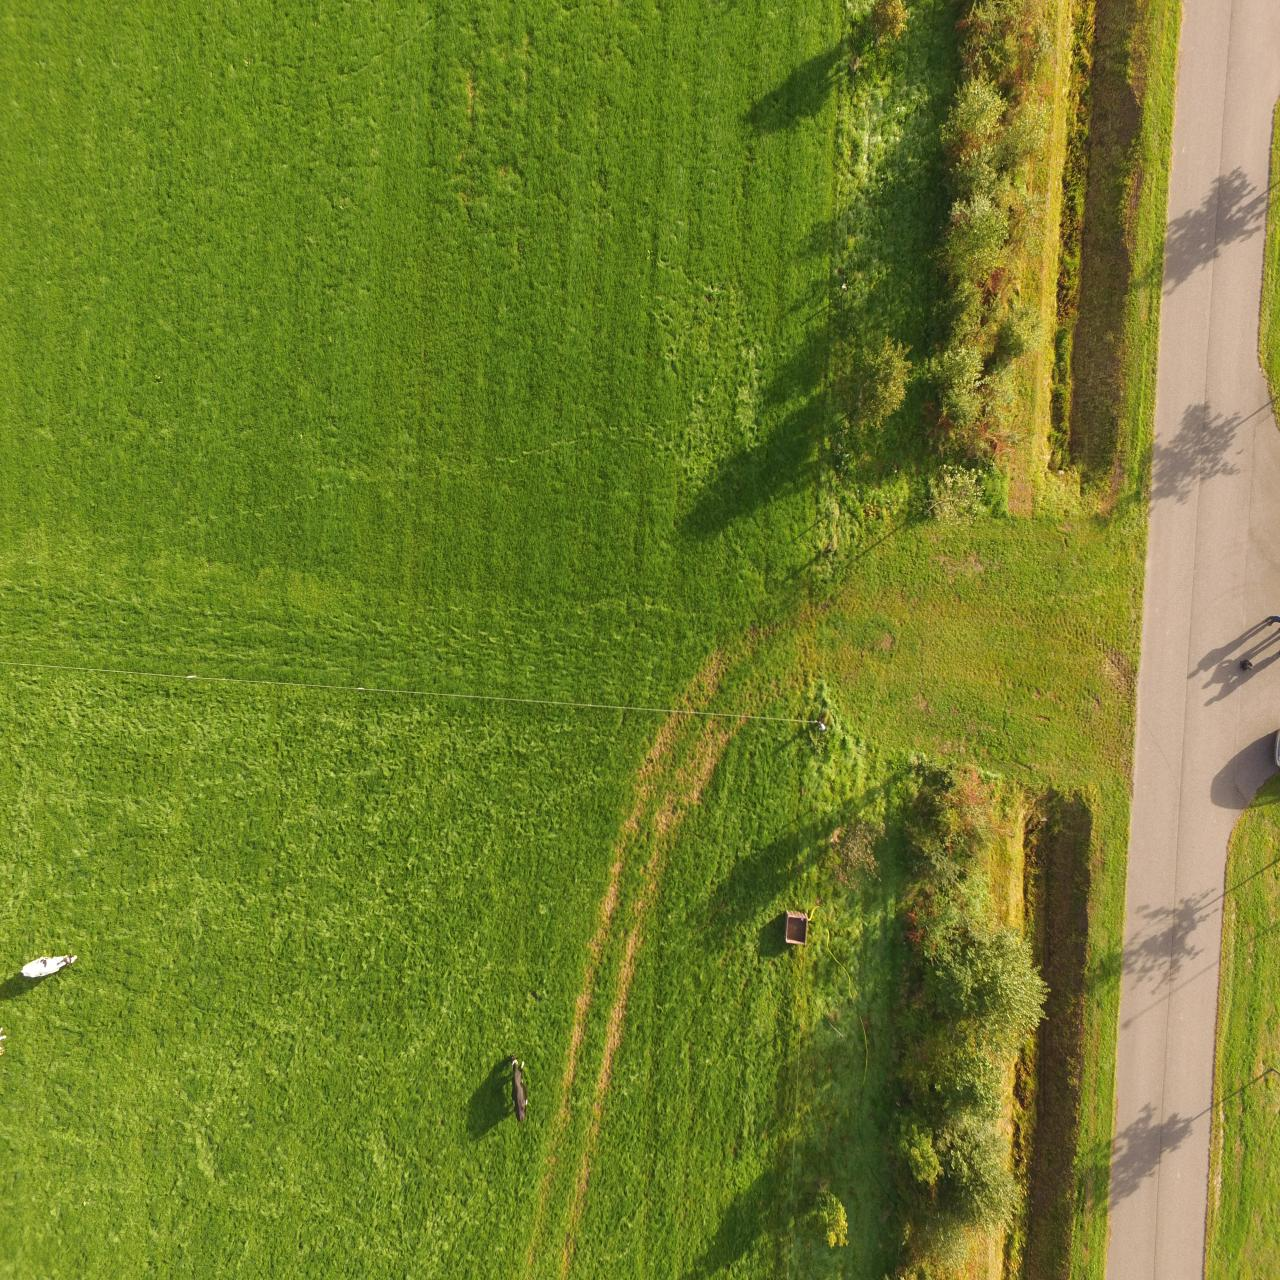cow: (18, 948, 81, 980), (508, 1049, 529, 1124)
